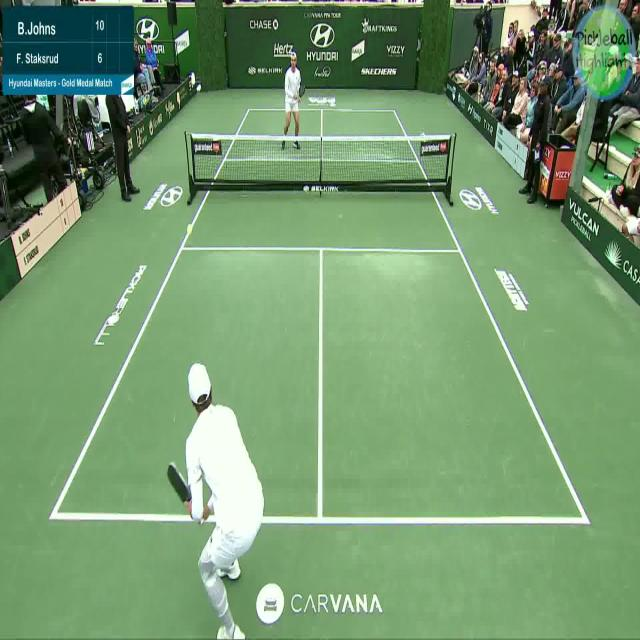ball: (186, 222, 195, 235)
